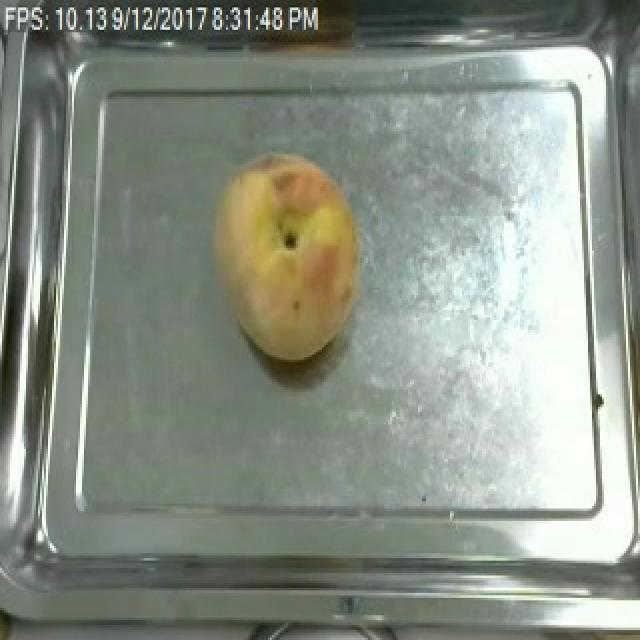Fruit: (204, 146, 368, 367)
